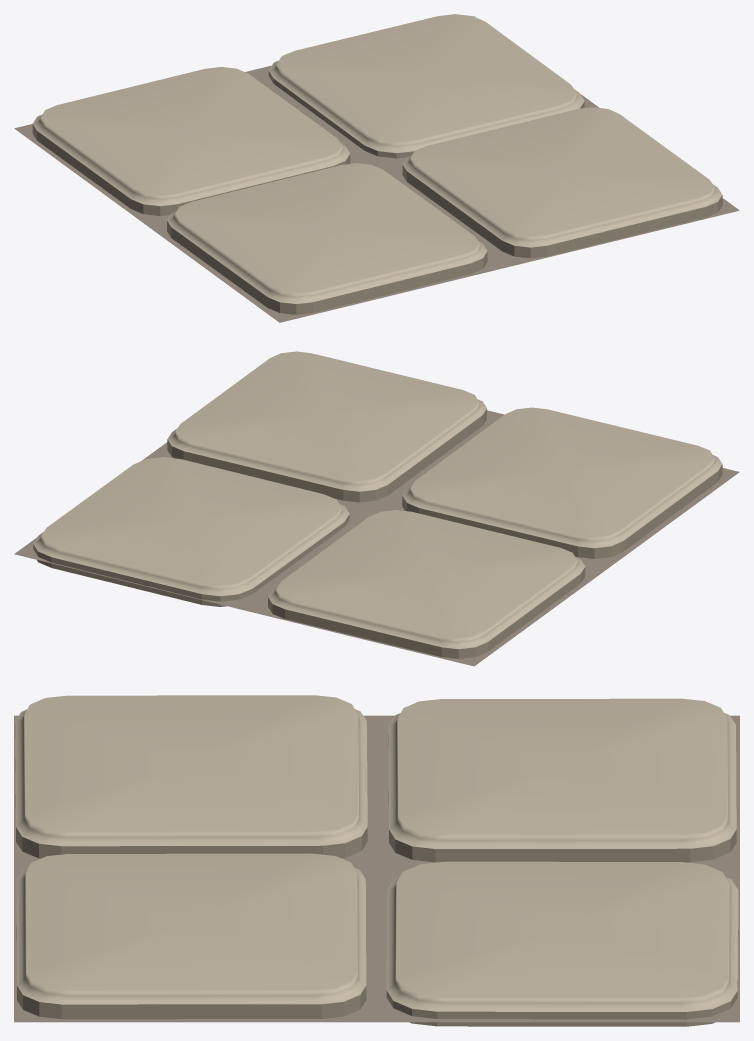
The model's file is master_soft_pavers_00.glb.
The picture shows the model from 3 angles, top to bottom: view 1: azimuth 30°, elevation 25°; view 2: azimuth 150°, elevation 25°; view 3: azimuth 270°, elevation 25°; orthographic projection. The views are drawn at different scales.
Visible parts, largest first — view 1: master_soft_pavers_00; view 2: master_soft_pavers_00; view 3: master_soft_pavers_00.
Boxes of the visible parts, x1,y1,x2,y2 form: master_soft_pavers_00: [14, 14, 739, 322]; master_soft_pavers_00: [14, 351, 739, 666]; master_soft_pavers_00: [14, 695, 739, 1026].
Bounding box in the file's own units: 1.35 × 0.0757 × 1.35.
